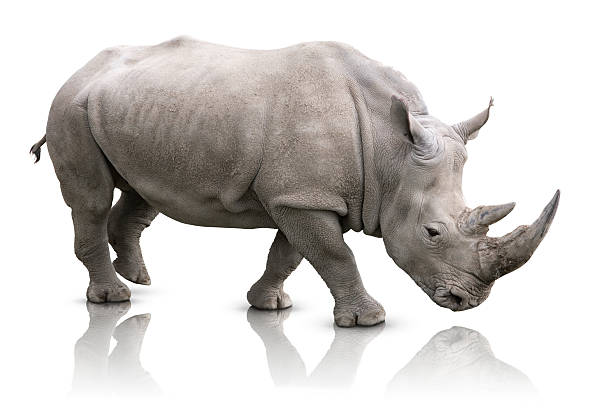rhino: (362, 69, 578, 331)
